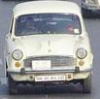car: (4, 2, 92, 93)
